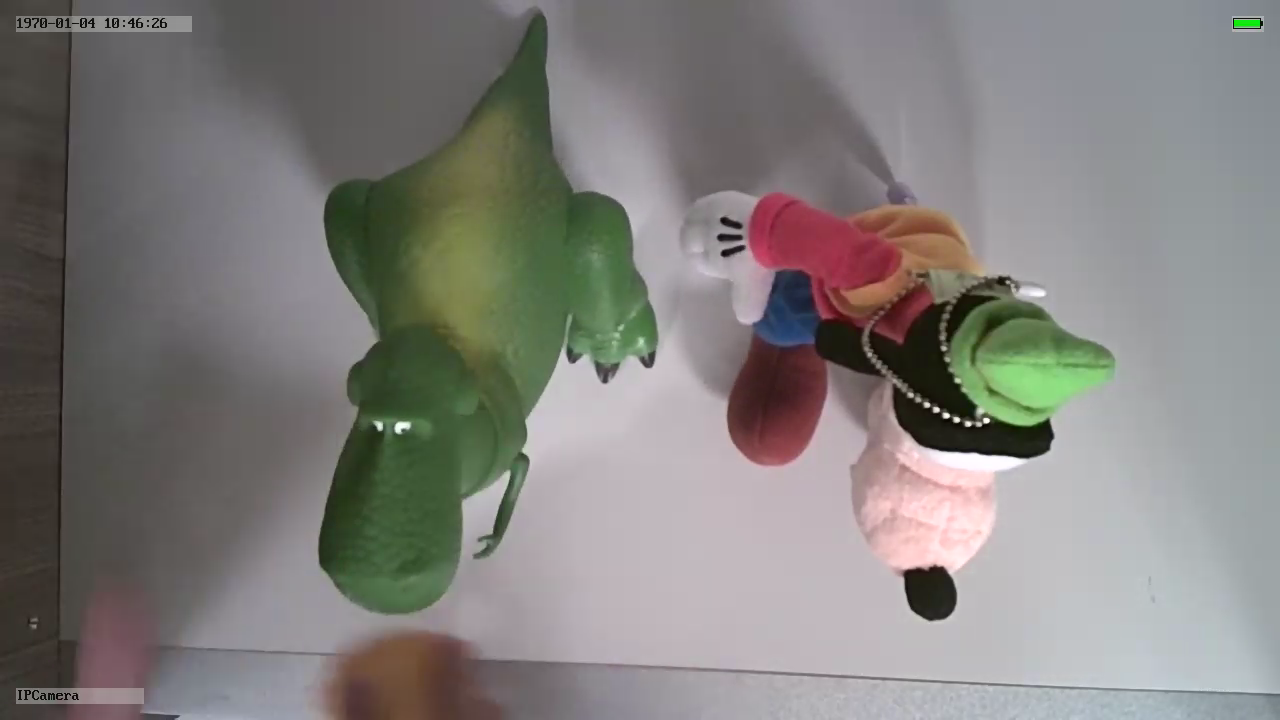goofy: (672, 185, 1119, 623)
